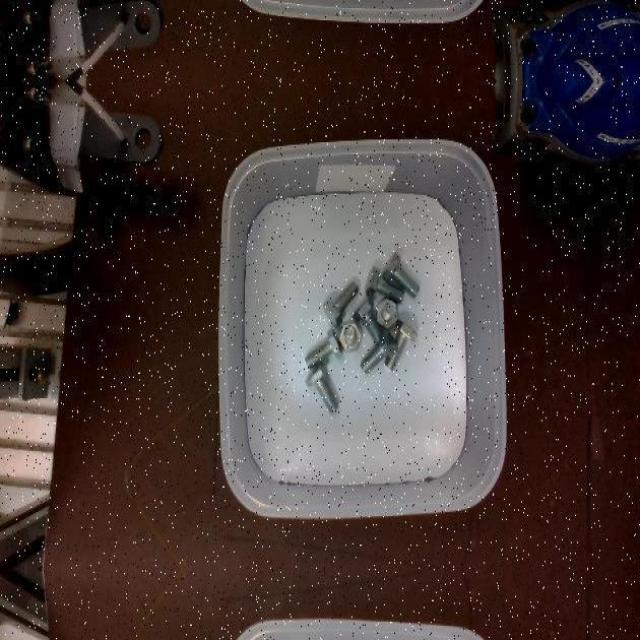screw: (381, 251, 420, 298), (322, 282, 359, 328), (361, 327, 398, 372), (306, 363, 339, 413), (304, 328, 342, 367), (365, 265, 404, 303), (338, 323, 362, 352), (377, 296, 397, 326)
